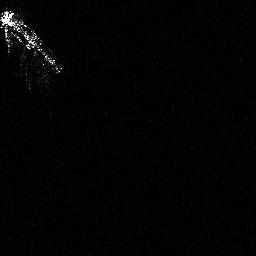ship: (1, 5, 64, 94)
